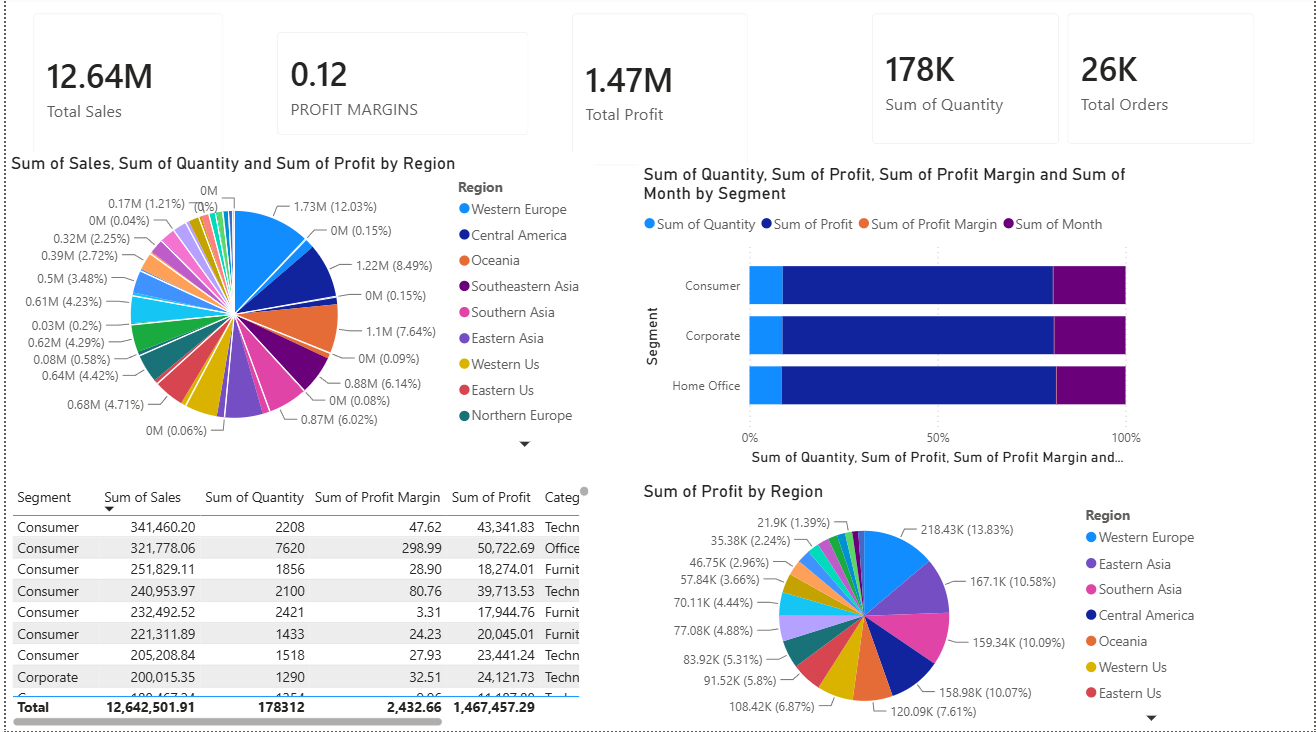

This screenshot's page, from the dashboard's own definition file:
{"tool":"powerbi","page":{"name":"Page 1","canvas":[1280,720],"ordinal":0},"visuals":[{"type":"cardVisual","fields":{"Data":["Orders.Total Sales"]},"box":[10,0,220,176.7],"z":0},{"type":"cardVisual","fields":{"Data":["Orders.Total Profit"]},"box":[536.7,0,206.7,183.3],"z":1000},{"type":"cardVisual","fields":{"Data":["Orders.PROFIT MARGINS"]},"box":[248.3,18.3,280,135],"z":2000},{"type":"pieChart","fields":{"Category":["Orders.Region"],"Y":["Sum(Orders.Sales)","Sum(Orders.Quantity)","Sum(Orders.Profit)"]},"box":[0,153.3,575,298.3],"z":4000},{"type":"hundredPercentStackedBarChart","fields":{"Category":["Orders.Segment"],"Y":["Sum(Orders.Quantity)","Sum(Orders.Profit)","Sum(Orders.Profit Margin)","Sum(Orders.Month)"]},"box":[618.3,163.3,496.7,300],"z":5000},{"type":"tableEx","fields":{"Values":["Orders.Segment","Sum(Orders.Sales)","Sum(Orders.Quantity)","Sum(Orders.Profit Margin)","Sum(Orders.Profit)","Orders.Category","Orders.Region"]},"box":[0,475,575,245],"z":6000},{"type":"pieChart","fields":{"Category":["Orders.Region"],"Y":["Sum(Orders.Profit)"]},"box":[618.3,475,570,245],"z":7000},{"type":"cardVisual","fields":{"Data":["Sum(Orders.Quantity)","Orders.Total Orders"]},"box":[830.3,0,409.6,162.6],"z":7001}]}

Visuals, with their boxes in screenshot pixels (x1, y1, x2, y2), scaled from the page's 1280x720 canvas onto the 1316x732 screenshot:
cardVisual - Orders.Total Sales: region(10, 0, 236, 180)
cardVisual - Orders.Total Profit: region(552, 0, 764, 186)
cardVisual - Orders.PROFIT MARGINS: region(255, 19, 543, 156)
pieChart - Orders.Region x Sum(Orders.Sales): region(0, 156, 591, 459)
hundredPercentStackedBarChart - Orders.Segment x Sum(Orders.Quantity): region(636, 166, 1146, 471)
tableEx - Orders.Segment x Sum(Orders.Sales): region(0, 483, 591, 731)
pieChart - Orders.Region x Sum(Orders.Profit): region(636, 483, 1222, 731)
cardVisual - Sum(Orders.Quantity) x Orders.Total Orders: region(854, 0, 1275, 165)
